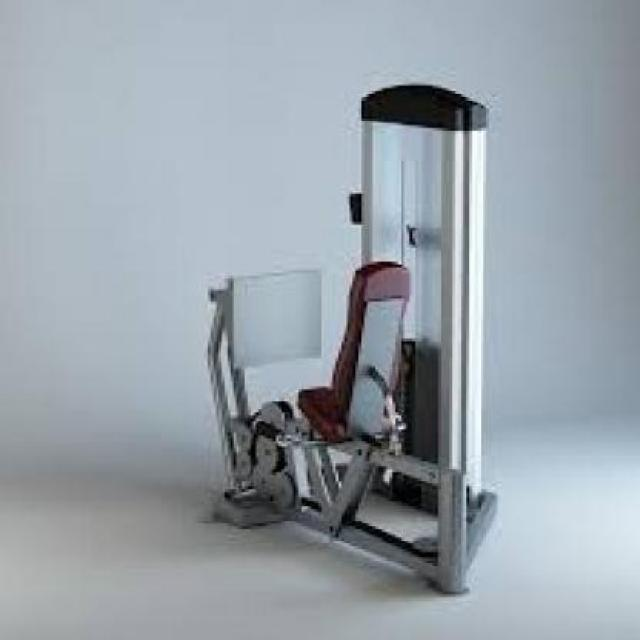leg press: (125, 58, 546, 617)
